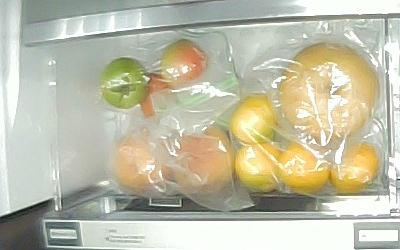peach_vinyl: (163, 126, 235, 194), (113, 129, 172, 197)
pear_vinyl: (279, 42, 379, 141)
tangerine_vinyl: (278, 141, 331, 195), (330, 142, 379, 192), (230, 94, 277, 143), (235, 143, 282, 192)
tomato_vinyl: (99, 56, 148, 110), (160, 38, 207, 88), (140, 72, 175, 118)
